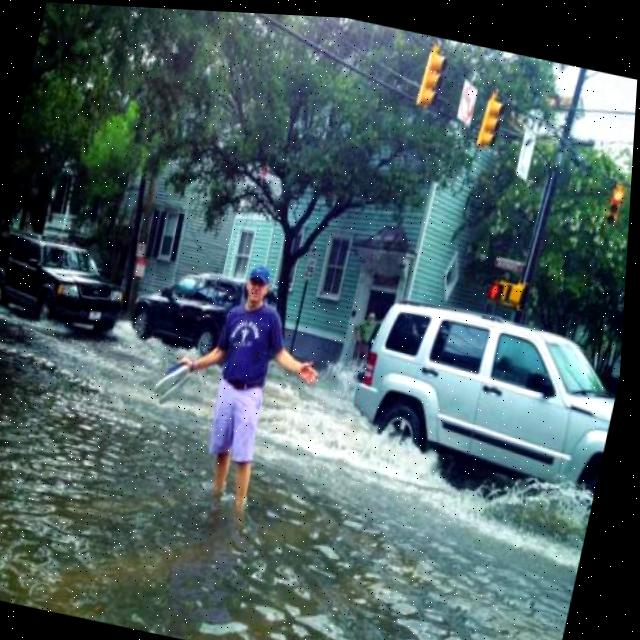civilian: (126, 231, 358, 538)
